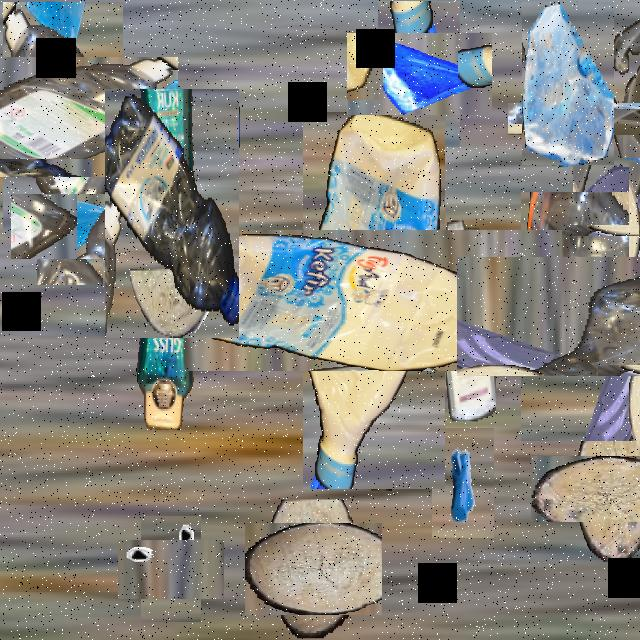glass: (522, 2, 614, 165), (362, 18, 476, 132), (573, 158, 640, 308), (24, 180, 116, 272)
metal: (130, 527, 212, 611), (432, 428, 494, 538)
plastic: (244, 171, 504, 430), (105, 89, 239, 338), (488, 224, 640, 408), (0, 29, 150, 205), (132, 176, 204, 428), (400, 255, 530, 385), (557, 52, 640, 185)
wood: (256, 511, 370, 627), (552, 434, 640, 543), (130, 89, 214, 156), (597, 193, 640, 268)
